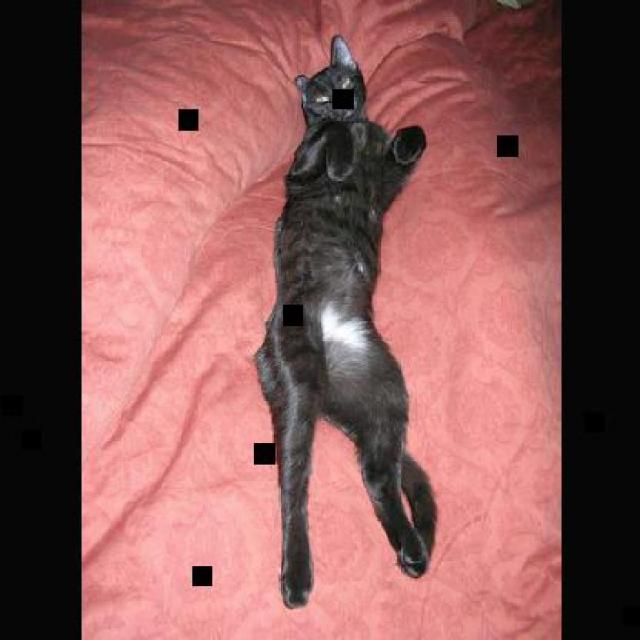unauthorized: (252, 32, 438, 610)
